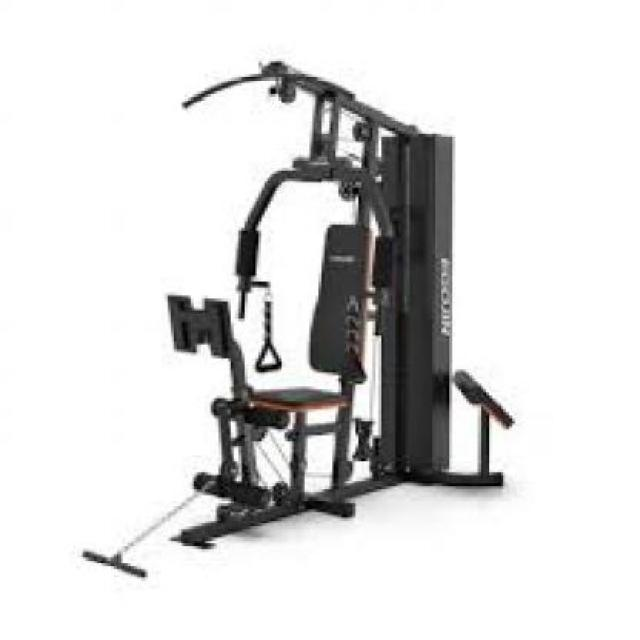Lat Pull Down: (80, 59, 510, 578)
